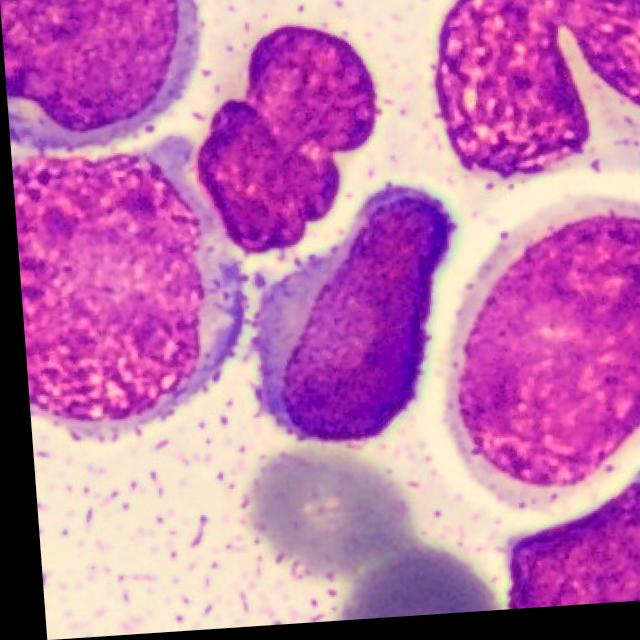Mieloblasto: (437, 207, 640, 520), (9, 153, 236, 430)
